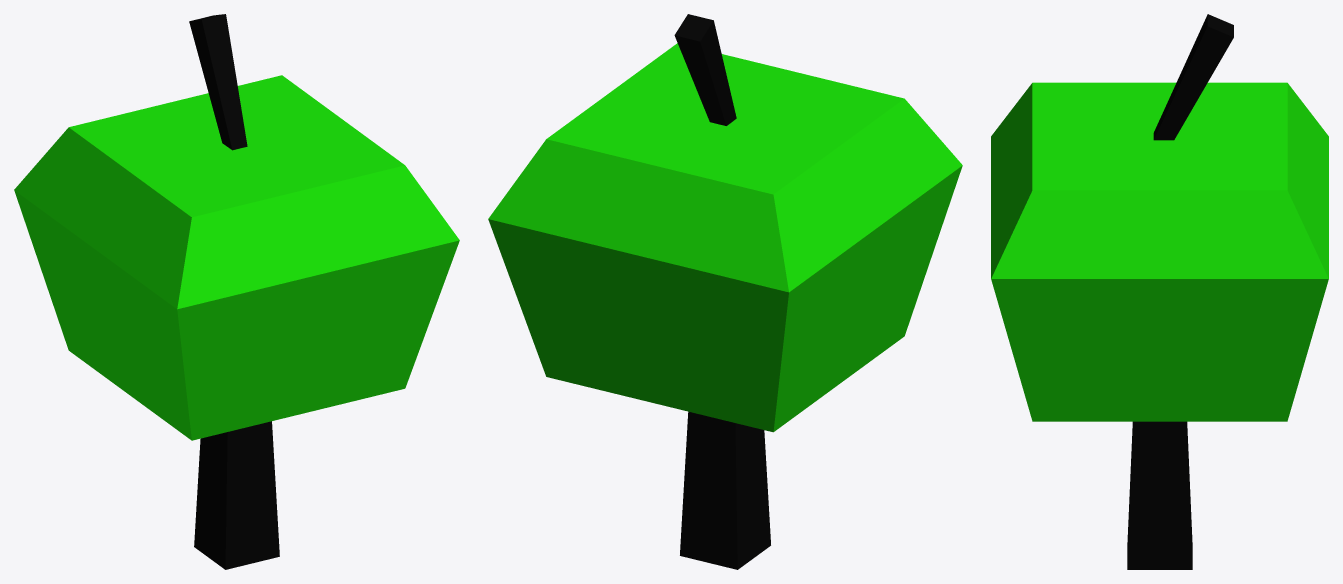
The model's file is ябочкин.fbx.
3 views of the same model, side by side, from view 1: azimuth 30°, elevation 25°; view 2: azimuth 150°, elevation 25°; view 3: azimuth 270°, elevation 25° (orthographic). The views are drawn at different scales.
Visible parts, largest first — view 1: Cube.001, Cube, Cube.002; view 2: Cube.001, Cube, Cube.002; view 3: Cube.001, Cube, Cube.002.
Part boxes in pixels (x1=…): Cube.001: x1=14, y1=75, x2=459, y2=440; Cube: x1=194, y1=421, x2=279, y2=569; Cube.002: x1=189, y1=14, x2=247, y2=150; Cube.001: x1=488, y1=43, x2=962, y2=432; Cube: x1=680, y1=411, x2=770, y2=569; Cube.002: x1=674, y1=14, x2=736, y2=125; Cube.001: x1=991, y1=82, x2=1328, y2=421; Cube: x1=1127, y1=421, x2=1192, y2=569; Cube.002: x1=1153, y1=14, x2=1233, y2=140.
Bounding box in the file's own units: 188 × 330 × 188.
